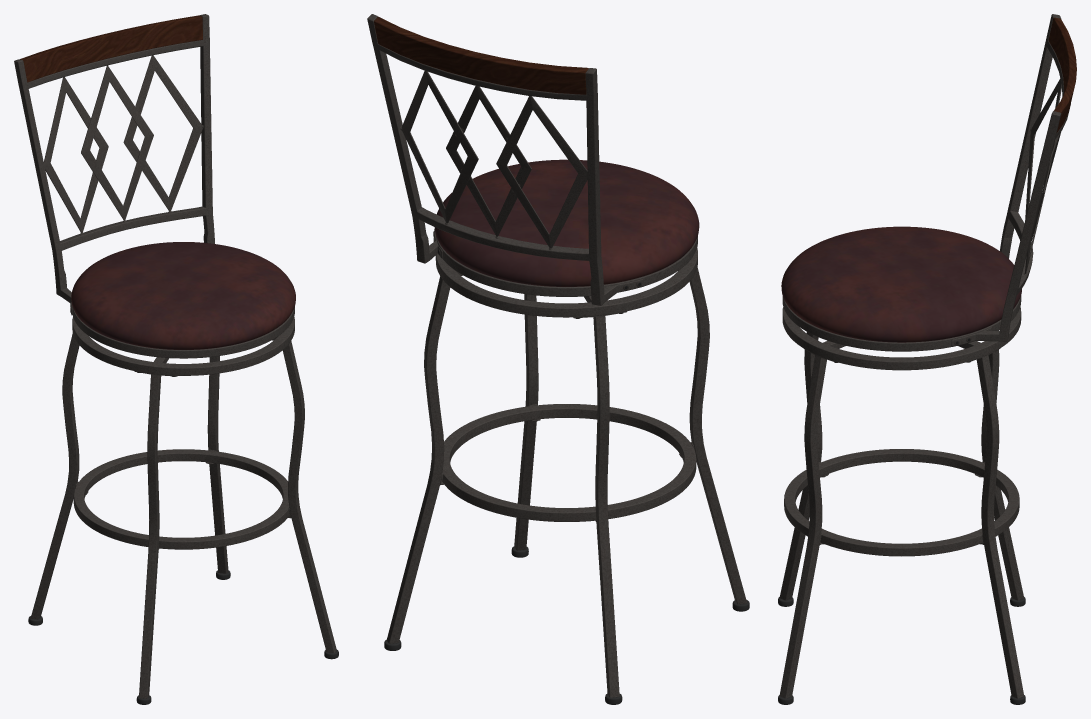
File: stool_B07DBK7KF8.glb
3 views of the same model, side by side, from view 1: azimuth 30°, elevation 25°; view 2: azimuth 150°, elevation 25°; view 3: azimuth 270°, elevation 25° (orthographic). The views are drawn at different scales.
Visible parts, largest first — view 1: RootNode; view 2: RootNode; view 3: RootNode.
Part boxes in pixels (x1,y1,x2,y2): RootNode: (14,14,338,704); RootNode: (367,14,749,704); RootNode: (778,14,1076,704).
Bounding box in the file's own units: 0.432 × 1.13 × 0.5213.
Materials: 1 (1 with a texture image).
